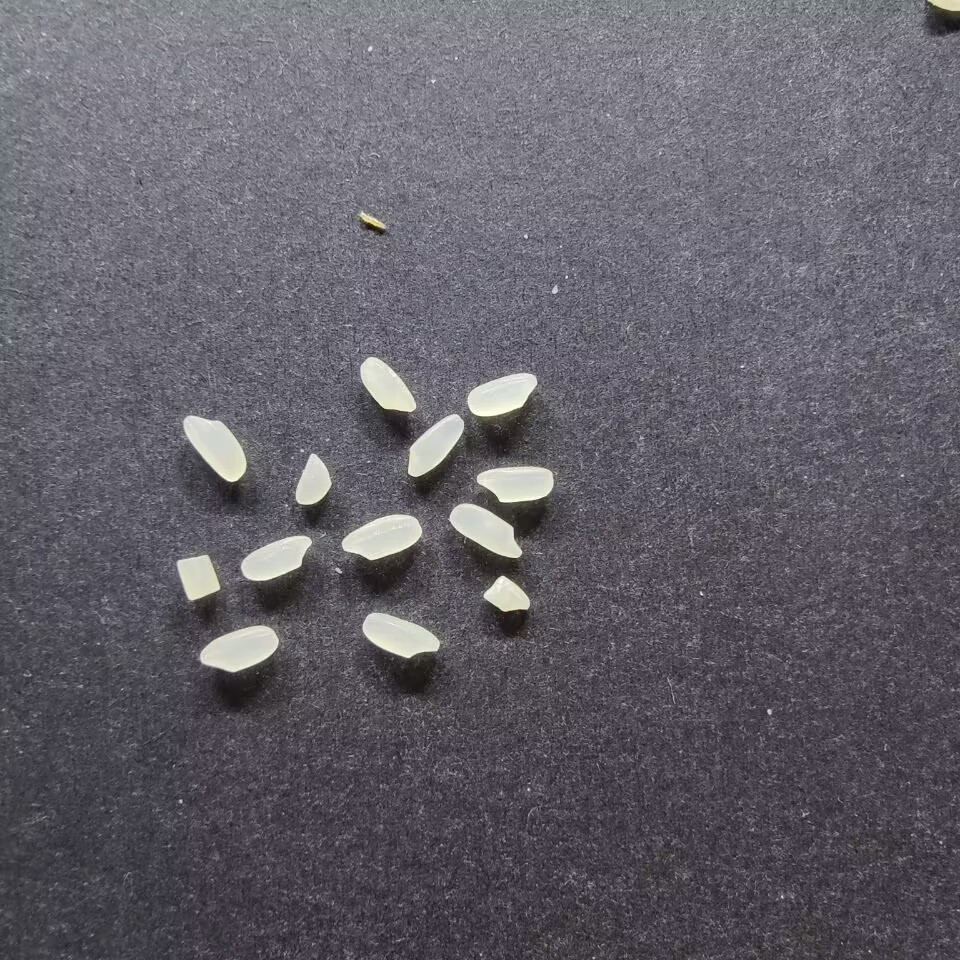broken: (293, 450, 334, 507), (176, 553, 223, 602), (481, 575, 533, 612)
others: (355, 208, 390, 237)
rice: (181, 411, 249, 485), (447, 502, 525, 561), (199, 622, 279, 675), (339, 512, 423, 562), (361, 609, 442, 659), (405, 412, 465, 479), (239, 532, 311, 582), (465, 369, 539, 417), (358, 355, 417, 412), (474, 465, 555, 503)
